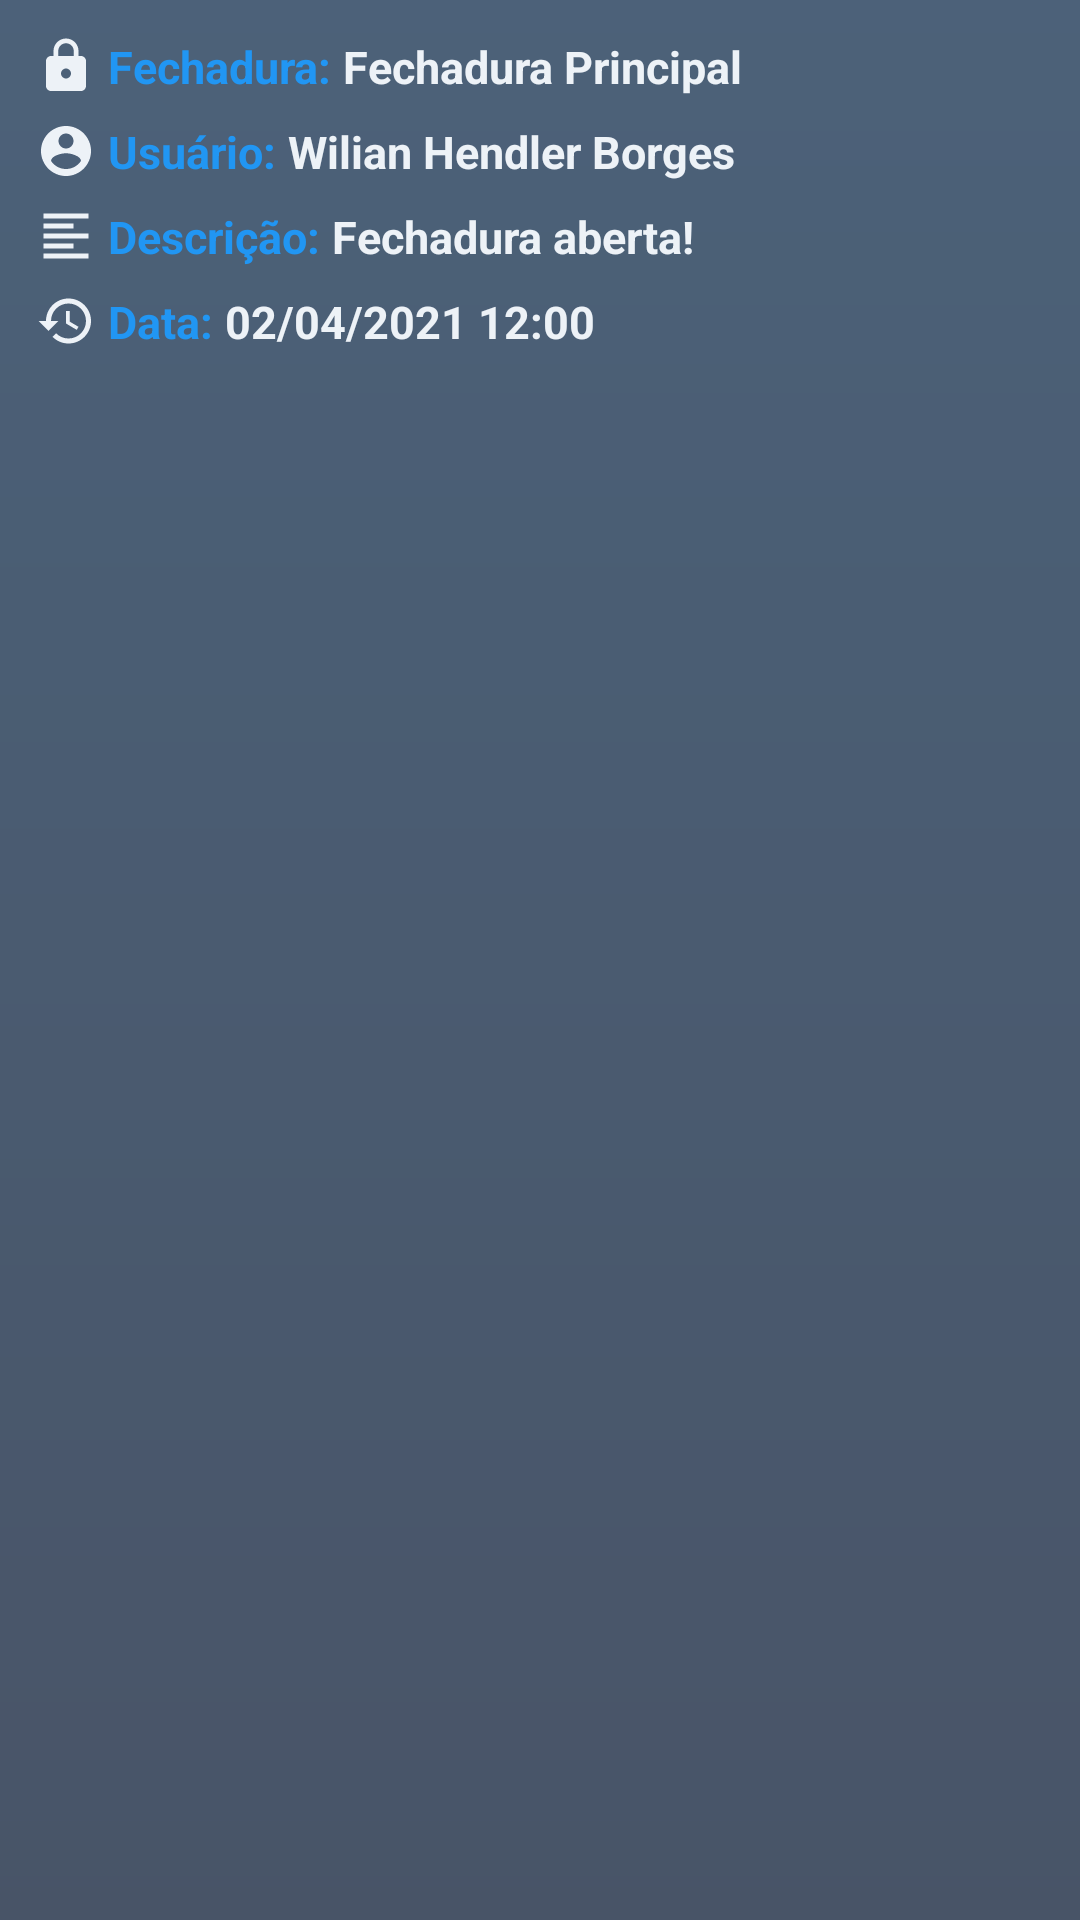

Icon bounding boxes for this 1080*1920 phone screenshot, format (x1, y1, x2, y2):
account circle: (41, 126, 91, 176)
format align left: (43, 213, 89, 259)
history: (39, 298, 91, 344)
lock closed: (46, 38, 86, 91)
